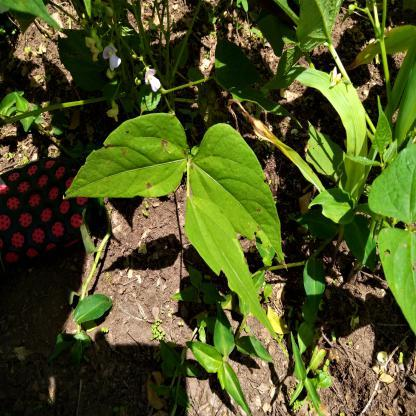Beans_Angular_LeafSpot: (191, 140, 283, 280), (99, 118, 173, 204)
